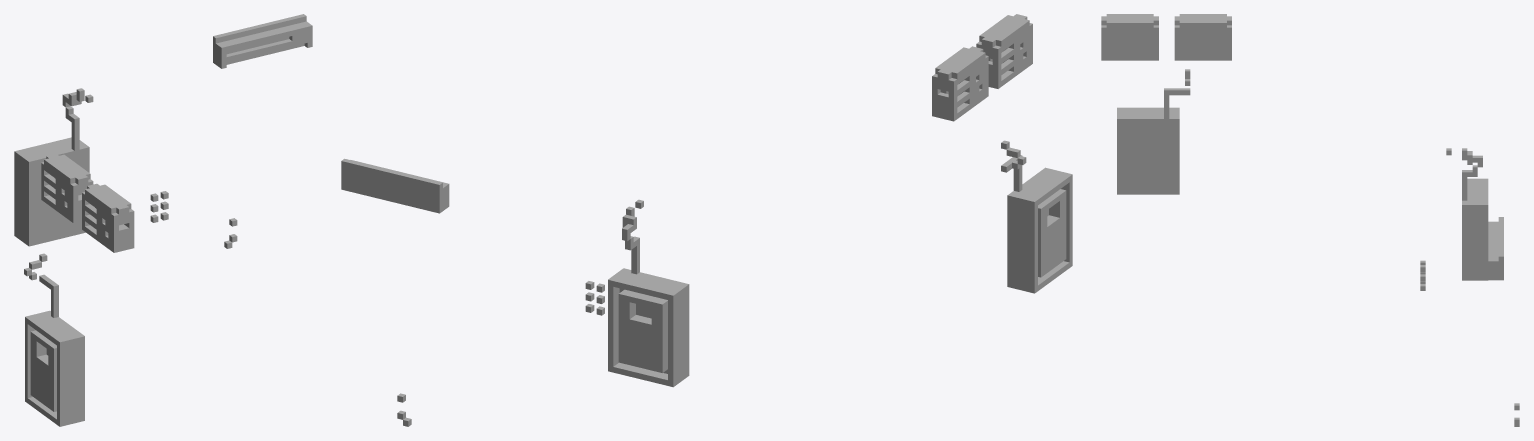
The model's file is electronic.obj.
3 renders of one model, left to right at view 1: azimuth 30°, elevation 25°; view 2: azimuth 150°, elevation 25°; view 3: azimuth 270°, elevation 25°, orthographic. The views are drawn at different scales.
Visible parts, largest first — view 1: electronic; view 2: electronic; view 3: electronic.
Boxes of the visible parts, x1,y1,x2,y2 form: electronic: [14, 14, 312, 426]; electronic: [341, 14, 1072, 426]; electronic: [1101, 14, 1519, 426].
Bounding box in the file's own units: 91 × 55 × 80.
1 material, 1 textured.
